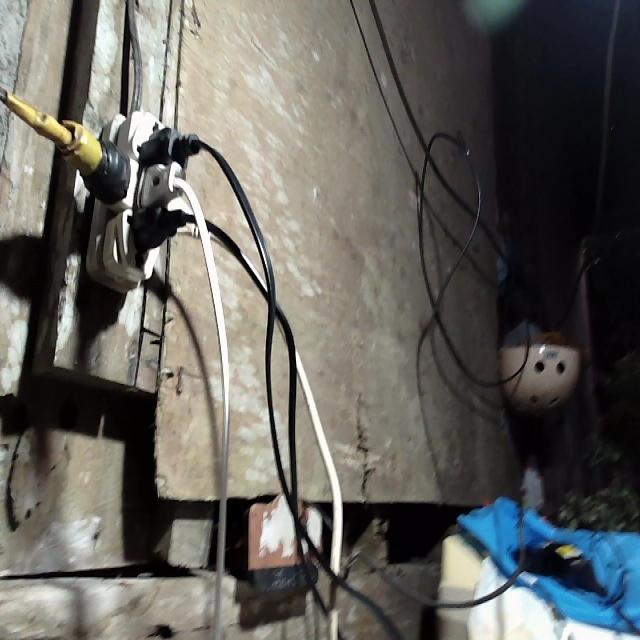-: (55, 101, 212, 299)
